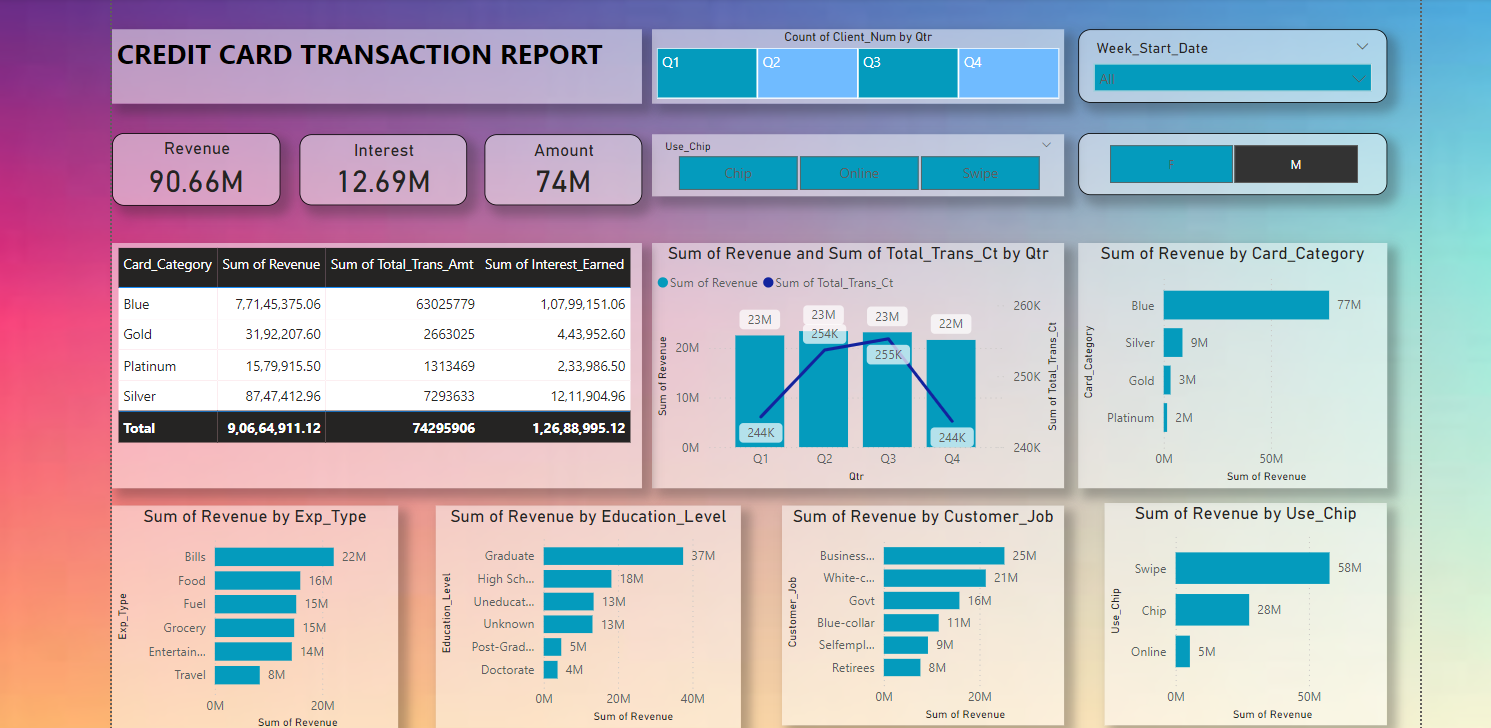

The page's visual inventory and layout, read from the dashboard file:
{"tool":"powerbi","page":{"name":"Page 2","canvas":[1280,720],"ordinal":0},"visuals":[{"type":"textbox","box":[0,30.2,518.7,72.7],"z":0},{"type":"lineStackedColumnComboChart","fields":{"Category":["cc_detail.Qtr"],"Y":["Sum(cc_detail.Revenue)"],"Y2":["Sum(cc_detail.Total_Trans_Ct)"]},"box":[528.3,239.7,403.5,239.7],"z":1000},{"type":"clusteredBarChart","fields":{"Category":["cc_detail.Exp_Type"],"Y":["Sum(cc_detail.Revenue)"]},"box":[0,496.5,280,223.8],"z":2000},{"type":"clusteredBarChart","fields":{"Y":["Sum(cc_detail.Revenue)"],"Category":["cust_detail.Education_Level"]},"box":[316.7,496.5,298.4,217.7],"z":3000},{"type":"clusteredBarChart","fields":{"Y":["Sum(cc_detail.Revenue)"],"Category":["cust_detail.Customer_Job"]},"box":[655.4,496.5,276.4,215.2],"z":4000},{"type":"clusteredBarChart","fields":{"Y":["Sum(cc_detail.Revenue)"],"Category":["cc_detail.Card_Category"]},"box":[945.2,239.7,302,239.7],"z":5000},{"type":"tableEx","fields":{"Values":["cc_detail.Card_Category","Sum(cc_detail.Revenue)","Sum(cc_detail.Total_Trans_Amt)","Sum(cc_detail.Interest_Earned)"]},"box":[0,239.7,518.5,239.7],"z":6000},{"type":"card","title":"Revenue","fields":{"Values":["Sum(cc_detail.Revenue)"]},"box":[0,132.1,165.1,70.9],"z":7000},{"type":"card","title":"Interest","fields":{"Values":["Sum(cc_detail.Interest_Earned)"]},"box":[183.4,133.3,163.9,69.7],"z":8000},{"type":"card","title":"Amount","fields":{"Values":["Sum(cc_detail.Total_Trans_Amt)"]},"box":[364.4,133.3,154.1,69.7],"z":9000},{"type":"slicer","fields":{"Values":["cc_detail.Week_Start_Date"]},"box":[945.2,30.6,302,72.1],"z":10000},{"type":"treemap","fields":{"Group":["cc_detail.Qtr"],"Values":["CountNonNull(cust_detail.Client_Num)"]},"box":[528.3,30.2,403.4,72.7],"z":11000},{"type":"slicer","fields":{"Values":["cust_detail.Gender"]},"box":[945.2,132.1,302,61.1],"z":12000},{"type":"clusteredBarChart","fields":{"Category":["cc_detail.Use_Chip"],"Y":["Sum(cc_detail.Revenue)"]},"box":[970.9,494,276.4,217.7],"z":13000},{"type":"slicer","fields":{"Values":["cc_detail.Use_Chip"]},"box":[528.3,133.3,403.5,61.1],"z":14000}]}

Visuals, with their boxes in screenshot pixels (x1, y1, x2, y2):
textbox: Rect(105, 27, 640, 102)
lineStackedColumnComboChart - cc_detail.Qtr x Sum(cc_detail.Revenue): Rect(650, 243, 1066, 490)
clusteredBarChart - cc_detail.Exp_Type x Sum(cc_detail.Revenue): Rect(105, 508, 394, 727)
clusteredBarChart - Sum(cc_detail.Revenue) x cust_detail.Education_Level: Rect(431, 508, 739, 727)
clusteredBarChart - Sum(cc_detail.Revenue) x cust_detail.Customer_Job: Rect(781, 508, 1066, 727)
clusteredBarChart - Sum(cc_detail.Revenue) x cc_detail.Card_Category: Rect(1079, 243, 1391, 490)
tableEx - cc_detail.Card_Category x Sum(cc_detail.Revenue): Rect(105, 243, 639, 490)
"Revenue" card: Rect(105, 132, 275, 205)
"Interest" card: Rect(294, 134, 463, 205)
"Amount" card: Rect(481, 134, 639, 205)
slicer - cc_detail.Week_Start_Date: Rect(1079, 28, 1391, 102)
treemap - cc_detail.Qtr x CountNonNull(cust_detail.Client_Num): Rect(650, 27, 1065, 102)
slicer - cust_detail.Gender: Rect(1079, 132, 1391, 195)
clusteredBarChart - cc_detail.Use_Chip x Sum(cc_detail.Revenue): Rect(1106, 505, 1391, 727)
slicer - cc_detail.Use_Chip: Rect(650, 134, 1066, 197)
